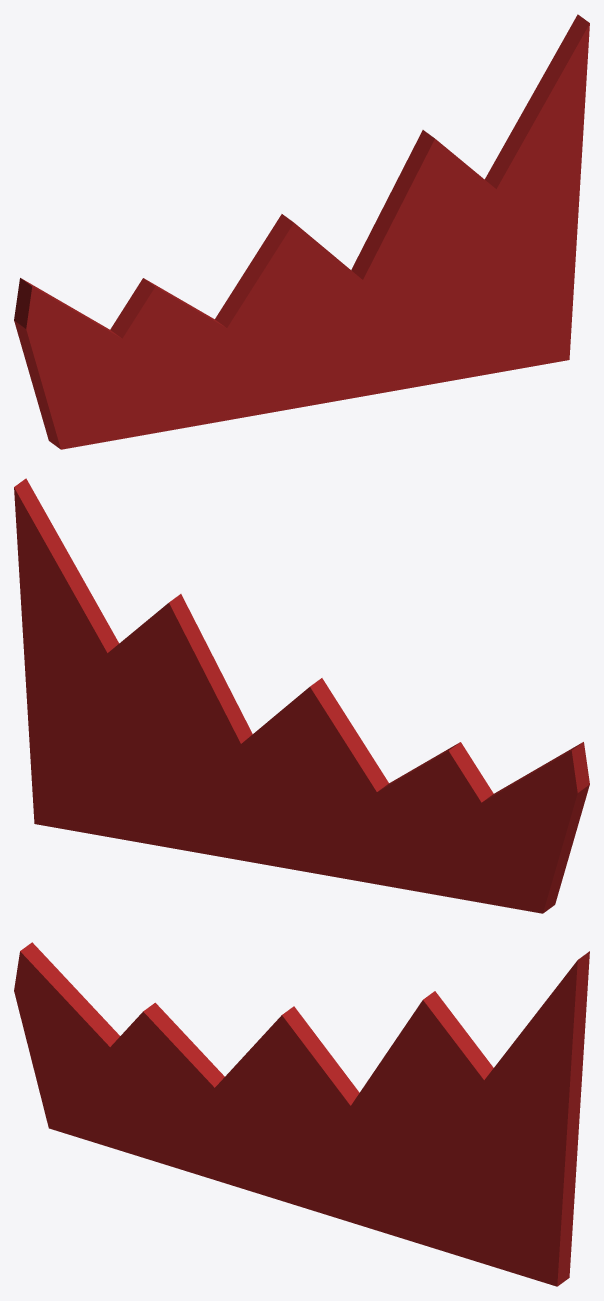
The model's file is Prop_Building_Savage_Metal_Plated_Sheet_Jaw_01.FBX.
3 renders of one model, top to bottom at view 1: azimuth 30°, elevation 25°; view 2: azimuth 150°, elevation 25°; view 3: azimuth 330°, elevation 25°, orthographic.
Visible parts, largest first — view 1: Prop_Building_Savage_Metal_Plated_Sheet_Jaw_01; view 2: Prop_Building_Savage_Metal_Plated_Sheet_Jaw_01; view 3: Prop_Building_Savage_Metal_Plated_Sheet_Jaw_01.
Boxes of the visible parts, x1,y1,x2,y2 form: Prop_Building_Savage_Metal_Plated_Sheet_Jaw_01: (14, 14, 589, 449); Prop_Building_Savage_Metal_Plated_Sheet_Jaw_01: (14, 478, 589, 913); Prop_Building_Savage_Metal_Plated_Sheet_Jaw_01: (14, 942, 589, 1286).
Bounding box in the file's own units: 4416 × 2484 × 166.
